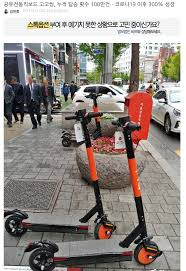kick_board: (28, 117, 160, 271), (8, 109, 110, 237)
kick_body: (60, 241, 129, 261), (30, 215, 86, 231)
kick_handler: (66, 109, 102, 121), (113, 116, 140, 129), (84, 93, 102, 99)
kick_neck: (125, 140, 147, 231), (82, 131, 104, 212)
kick_wheel: (29, 248, 55, 271), (135, 242, 158, 266), (6, 211, 28, 236), (96, 221, 114, 239), (62, 139, 70, 146)
